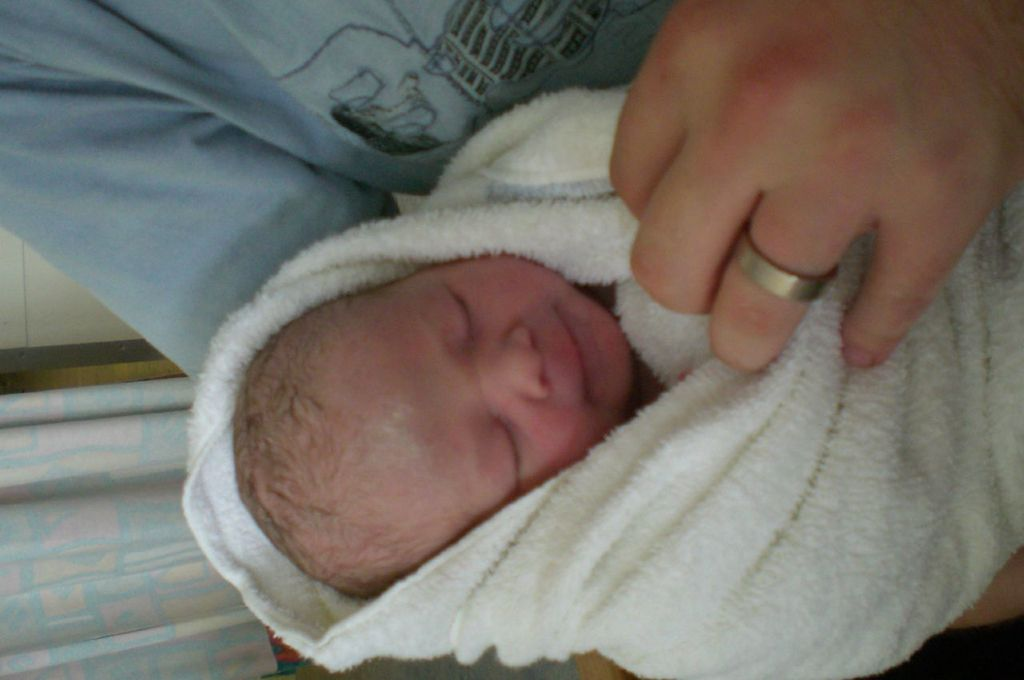Person: (181, 77, 1024, 679), (0, 0, 1024, 384)
